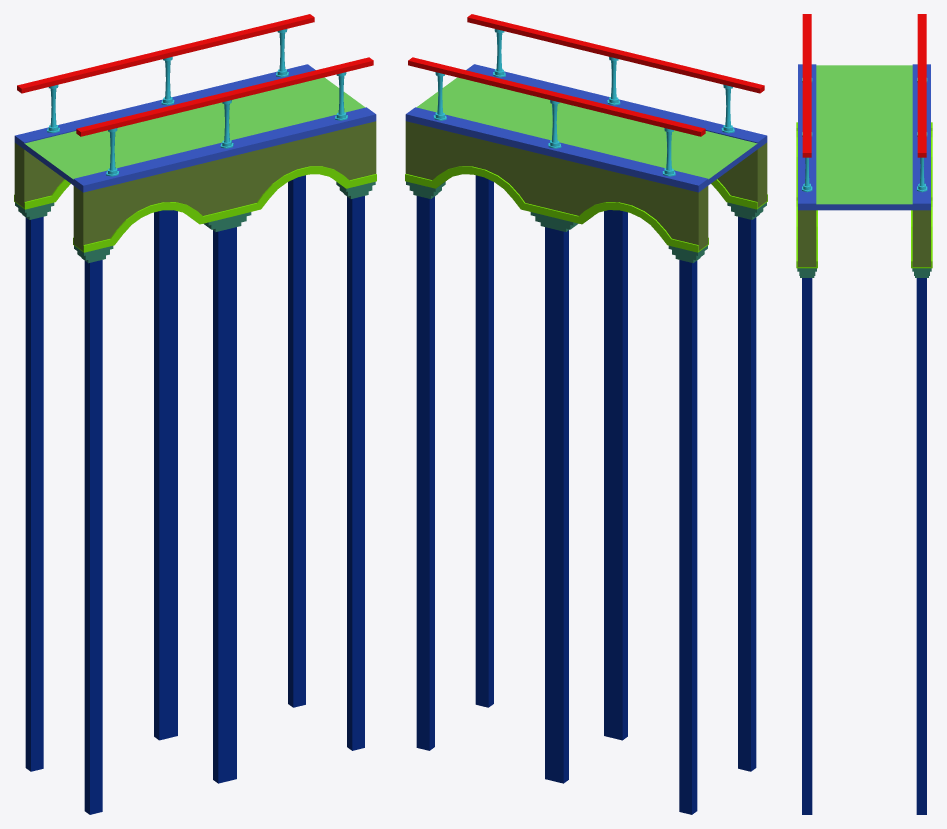
The model's file is bridge.fbx.
The picture shows the model from 3 angles, left to right: view 1: azimuth 30°, elevation 25°; view 2: azimuth 150°, elevation 25°; view 3: azimuth 270°, elevation 25°; orthographic projection. The views are drawn at different scales.
Visible parts, largest first — view 1: Object032, Cylinder011, Object031, Object030; view 2: Object032, Cylinder011, Object031, Object030; view 3: Cylinder011, Object032, Object031, Object030.
Boxes of the visible parts, box(x1,y1,x2,y2) form: Object032: box(15, 175, 375, 814); Cylinder011: box(14, 64, 376, 252); Object031: box(17, 14, 373, 136); Object030: box(47, 29, 347, 176); Object032: box(406, 175, 766, 814); Cylinder011: box(405, 64, 767, 252); Object031: box(408, 14, 764, 136); Object030: box(433, 29, 734, 176); Cylinder011: box(796, 64, 932, 268); Object032: box(797, 268, 931, 814); Object031: box(802, 14, 926, 157); Object030: box(802, 78, 927, 192).
Size of the model in its own units: 251 by 104 by 560.
